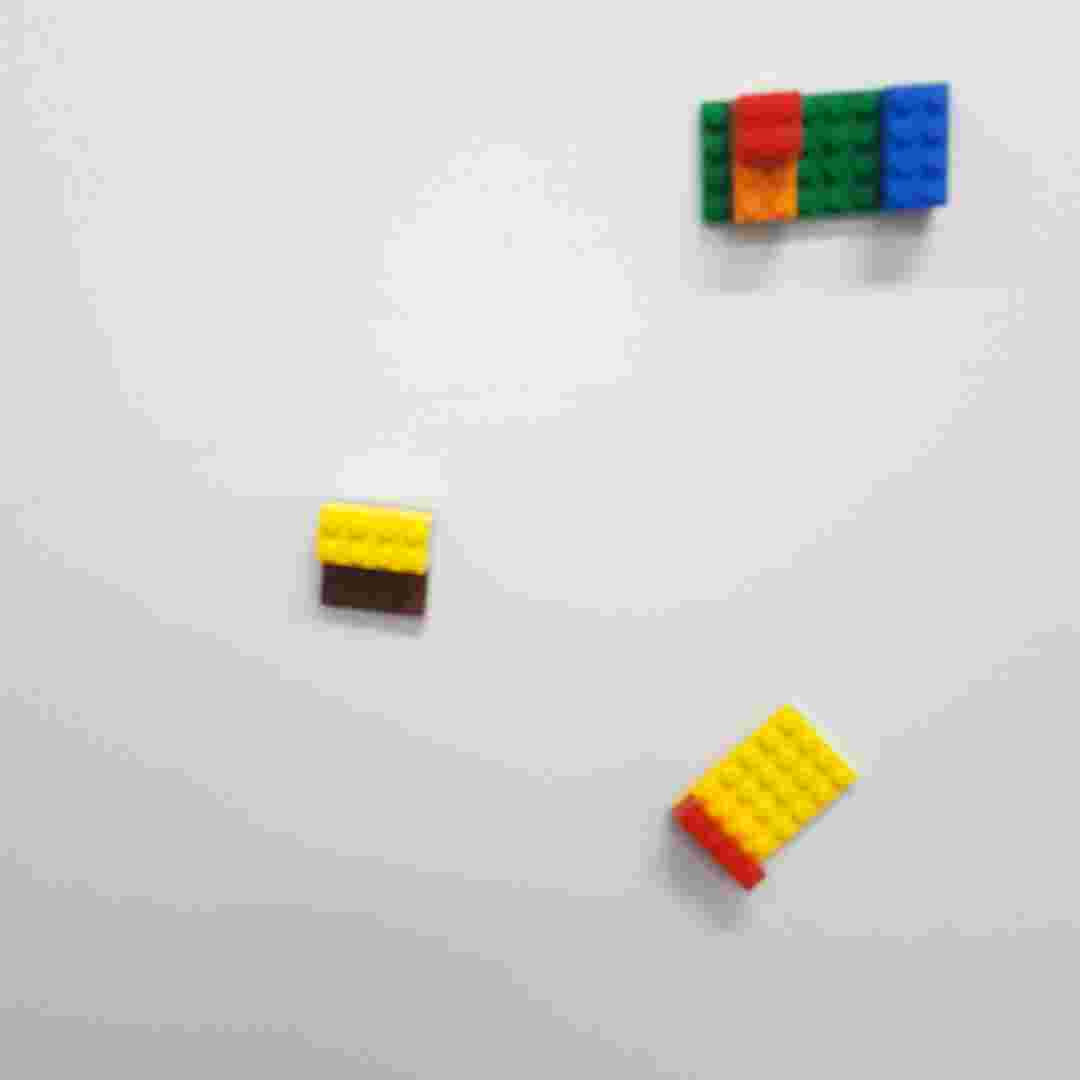LEGO: (691, 72, 956, 240), (665, 701, 865, 893), (309, 499, 438, 628)
